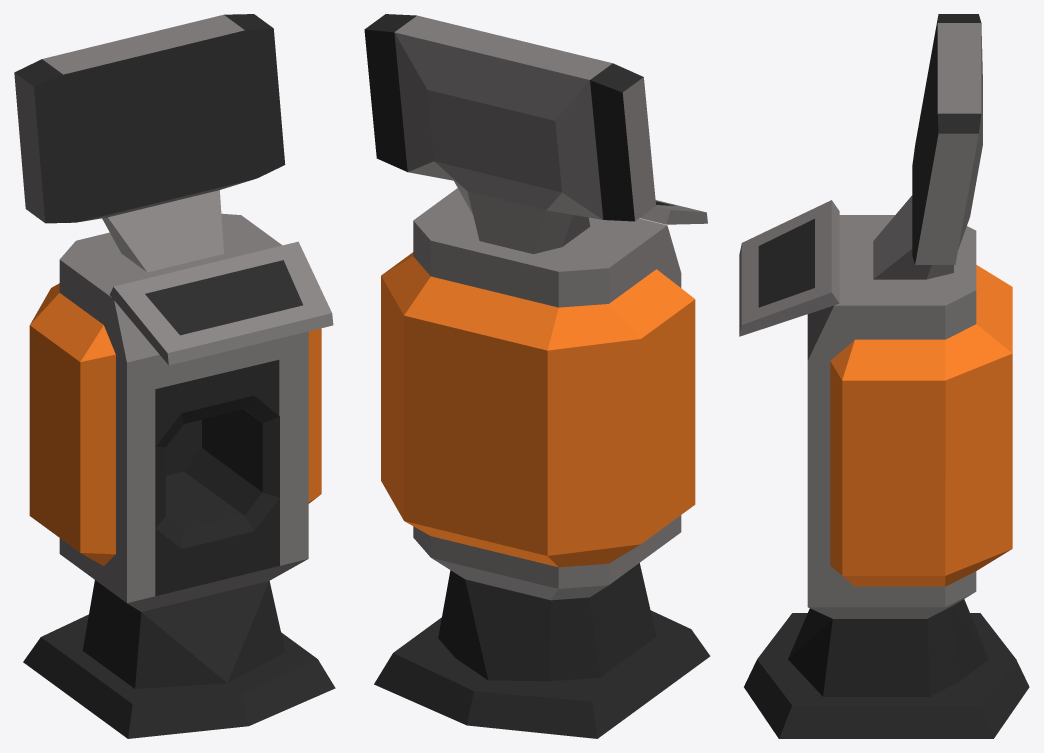
File: scifi_scifi-chemistry-lab.fbx
The picture shows the model from 3 angles, left to right: view 1: azimuth 30°, elevation 25°; view 2: azimuth 150°, elevation 25°; view 3: azimuth 270°, elevation 25°; orthographic projection. The views are drawn at different scales.
Visible parts, largest first — view 1: scifi_scifi_chemistry_lab; view 2: scifi_scifi_chemistry_lab; view 3: scifi_scifi_chemistry_lab.
Part boxes in pixels (bbox=[...]): scifi_scifi_chemistry_lab: bbox=[14, 14, 335, 738]; scifi_scifi_chemistry_lab: bbox=[364, 14, 710, 738]; scifi_scifi_chemistry_lab: bbox=[739, 14, 1029, 738].
Bounding box in the file's own units: 83.6 × 200 × 85.03.
